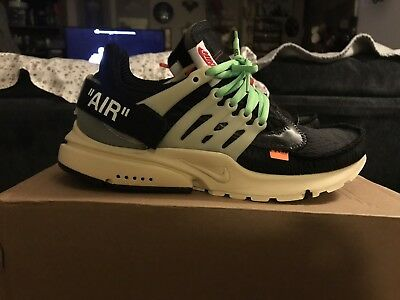Nike x OFF--WHITE Air Presto OG: (45, 17, 371, 203)
